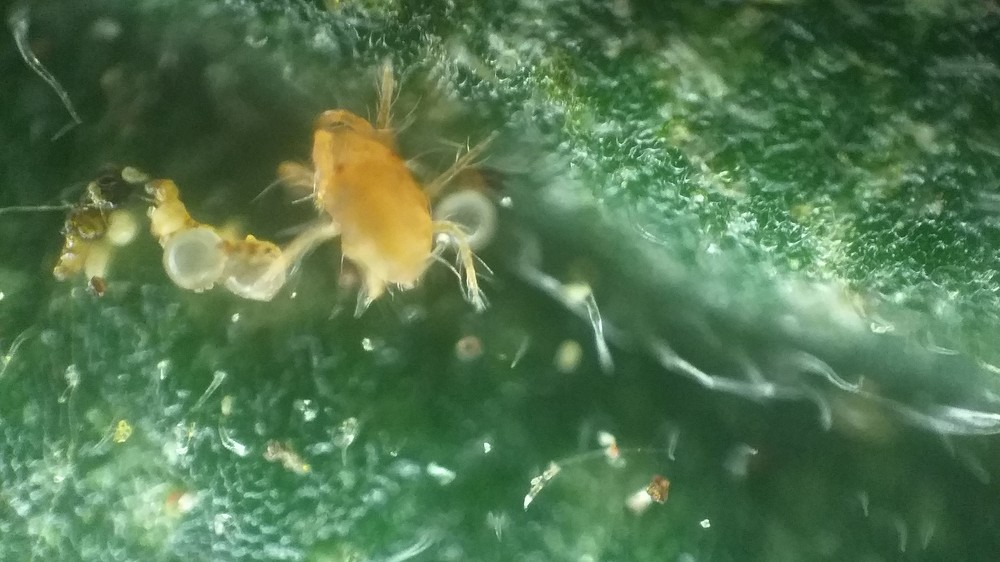Aracnido Rojo: (235, 63, 537, 341)
